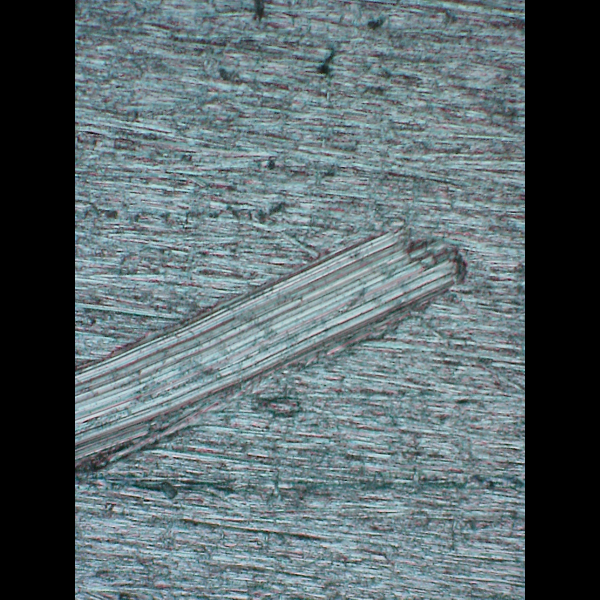d: (75, 221, 475, 483)
